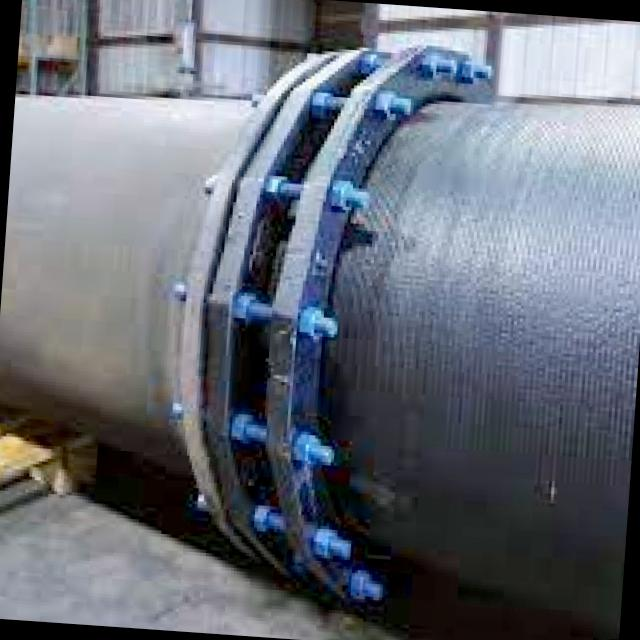gas: (0, 46, 640, 640)
